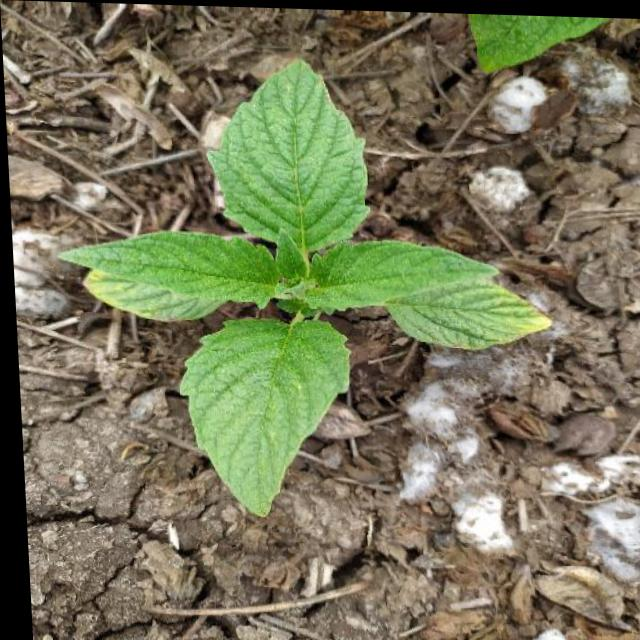crop: (50, 44, 567, 524)
